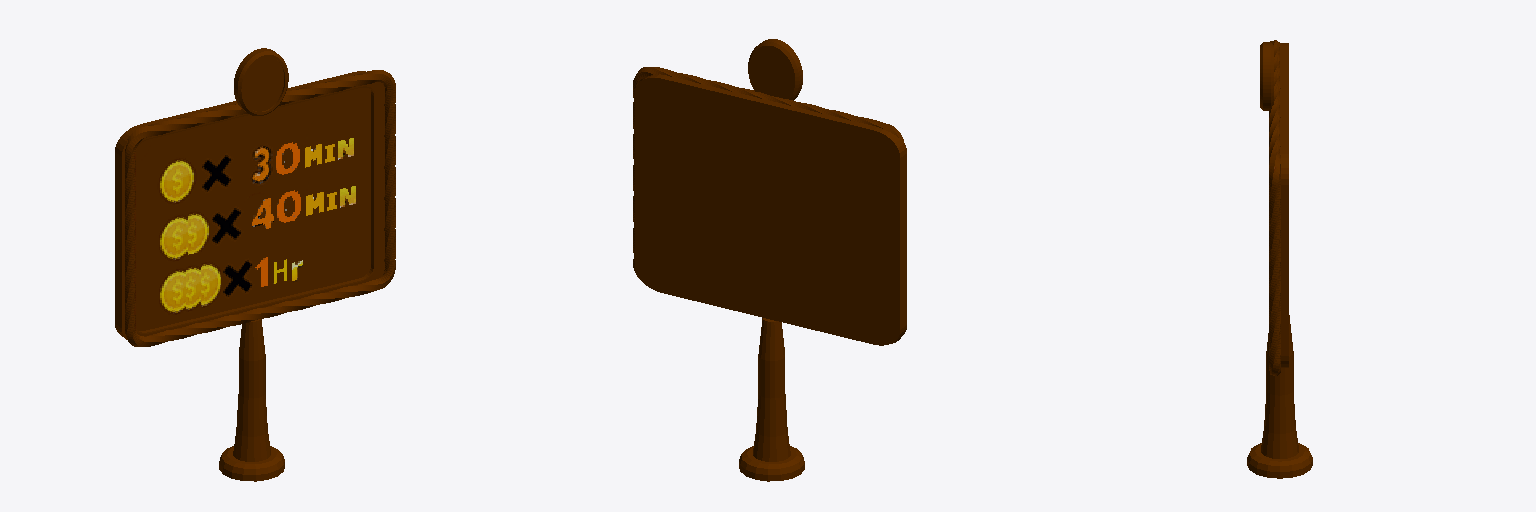
3 views of the same model, side by side, from view 1: azimuth 30°, elevation 25°; view 2: azimuth 150°, elevation 25°; view 3: azimuth 270°, elevation 25° (orthographic).
Visible parts, largest first — view 1: Connect; view 2: Connect; view 3: Connect.
Part boxes in pixels (x1,y1,x2,y2): Connect: (115,48,395,481); Connect: (633,39,906,481); Connect: (1247,40,1312,478).
Bounding box in the file's own units: 0.589 × 0.8668 × 0.1236.
1 materials, 1 textured.